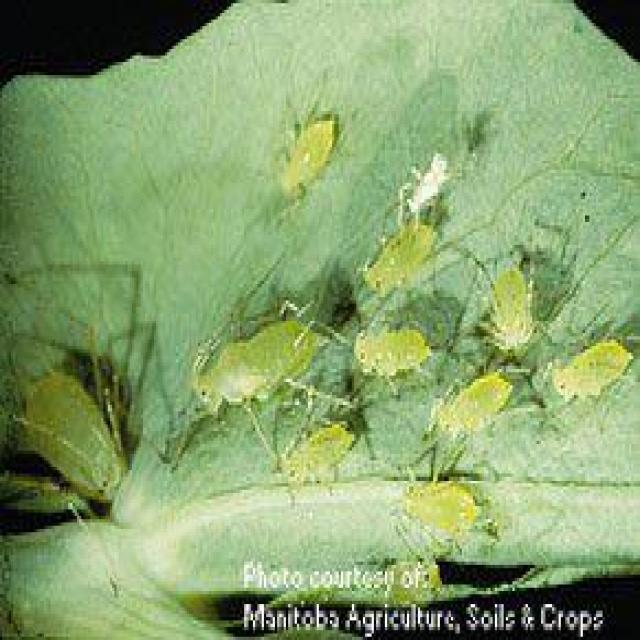Aphids: (175, 256, 333, 458)
